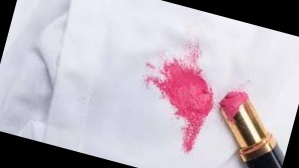lipstick: (128, 39, 233, 155)
